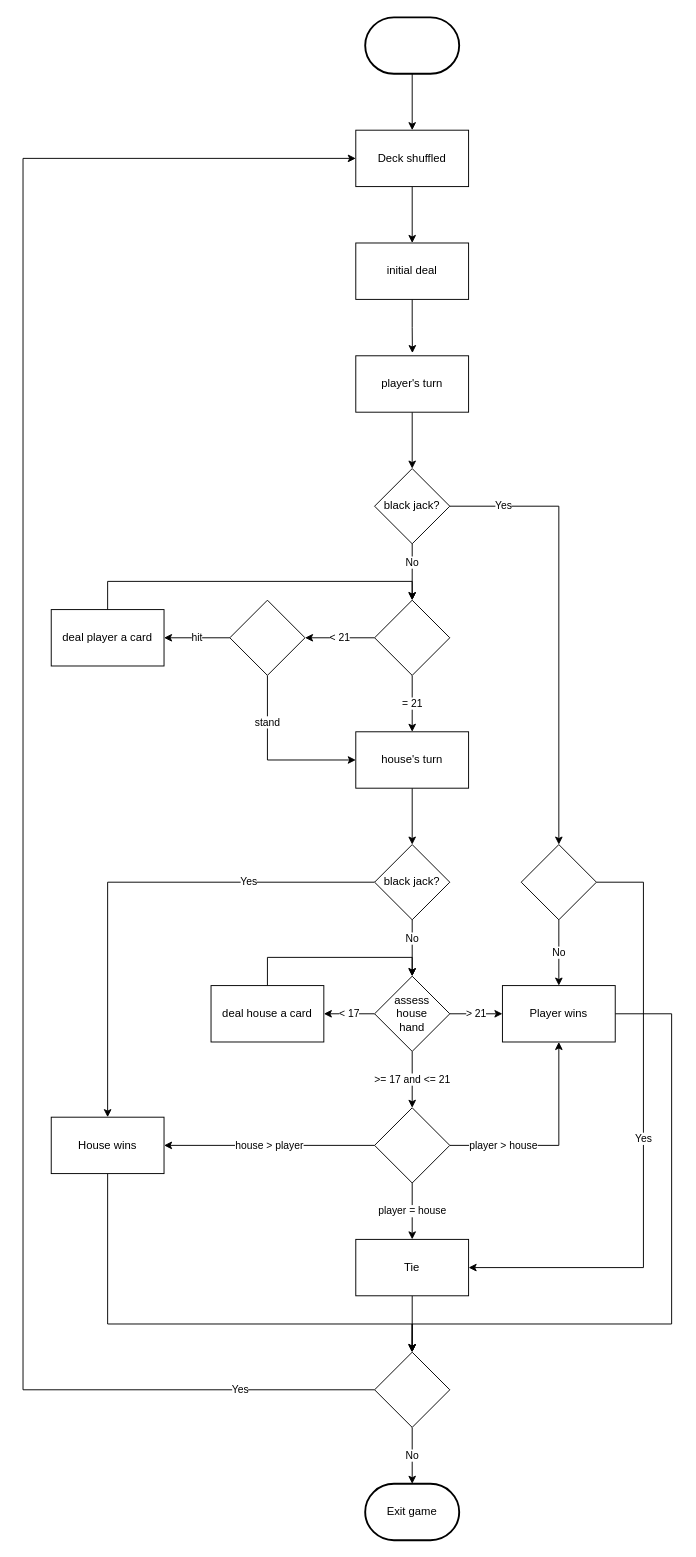
Some shapes in this 696 by 1557 pixel diagram are drawn without their labels. The centre of each missing label's shape, as x and y in pixels:
assess player hand: point (412, 637)
compare hands: point (412, 1145)
hit or stand: point (267, 637)
house black jack?: point (558, 882)
play again: point (412, 1389)
Welcome: point (412, 45)
